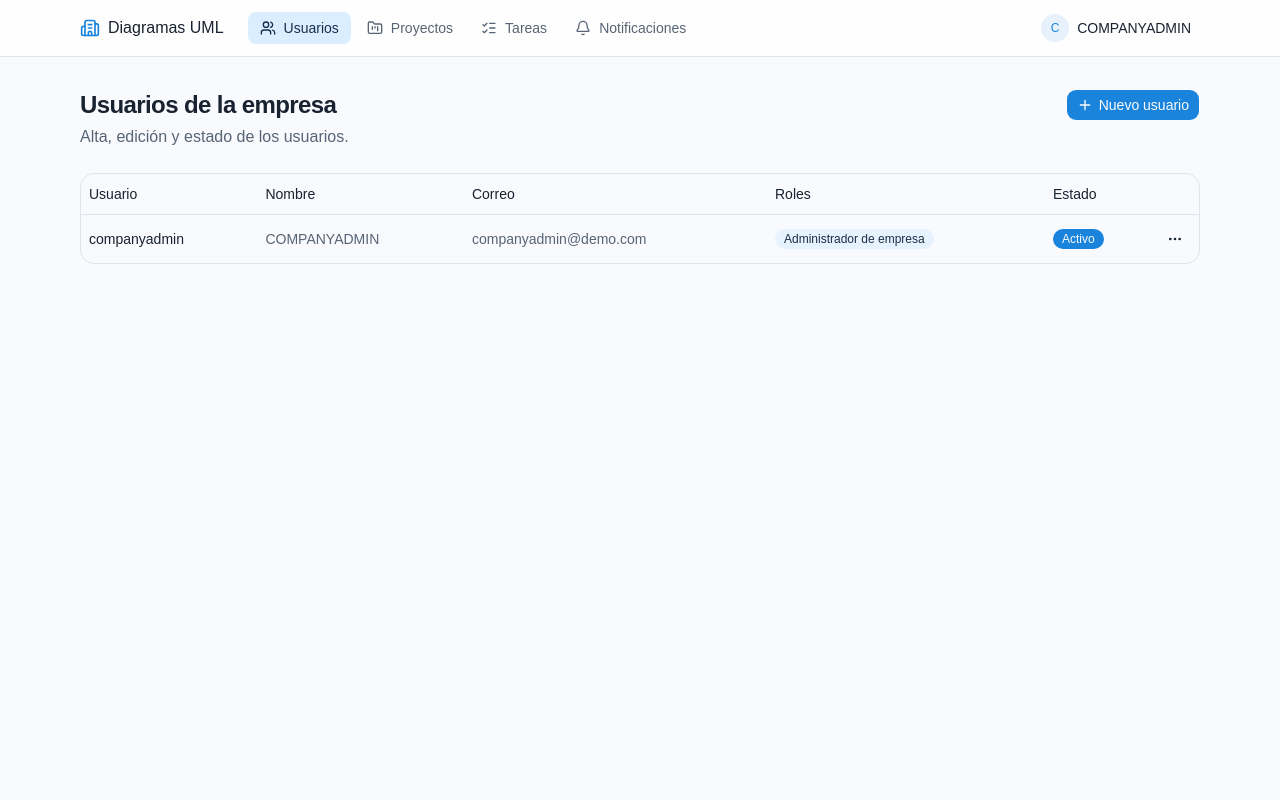
Test: CU-03 Gestionar usuarios de empresa › muestra DUPLICATE_USER sin cerrar el formulario
The width and height of the screenshot is (1280, 800).
Click the button "Nuevo usuario".
click(1133, 105)  # box [1066,89,1200,121]
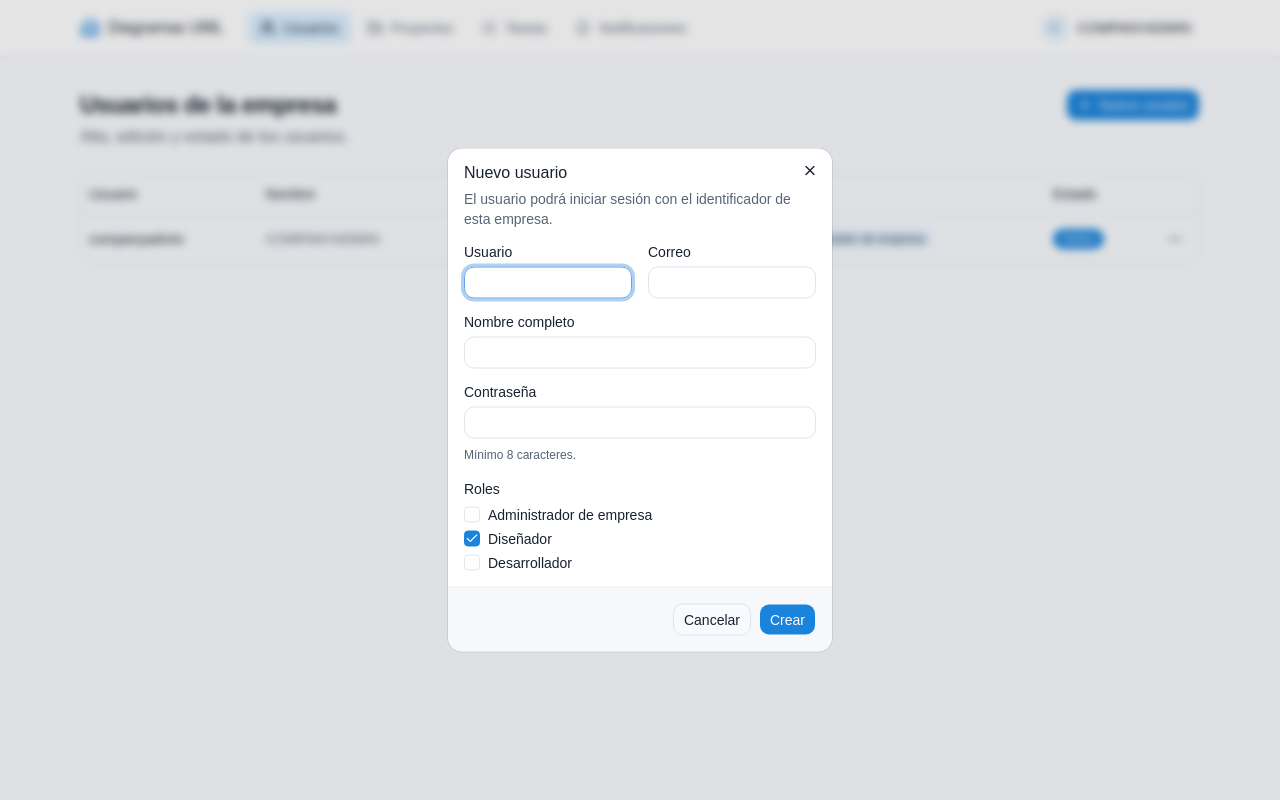
Type "designer" into the field labelled "Usuario".
click(548, 282); type("designer")  # box [464,266,632,298]
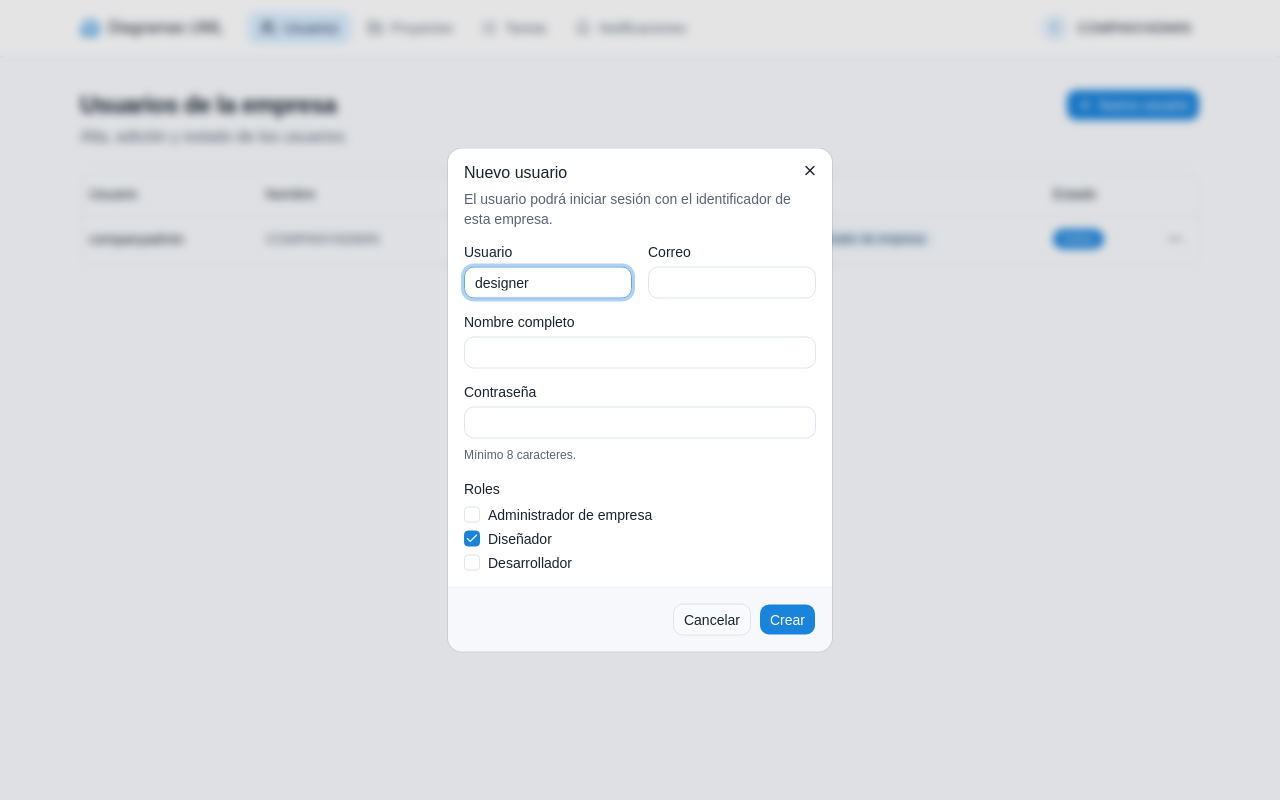
Type "designer@demo.com" into the field labelled "Correo".
click(732, 282); type("designer@demo.com")  # box [648,266,816,298]
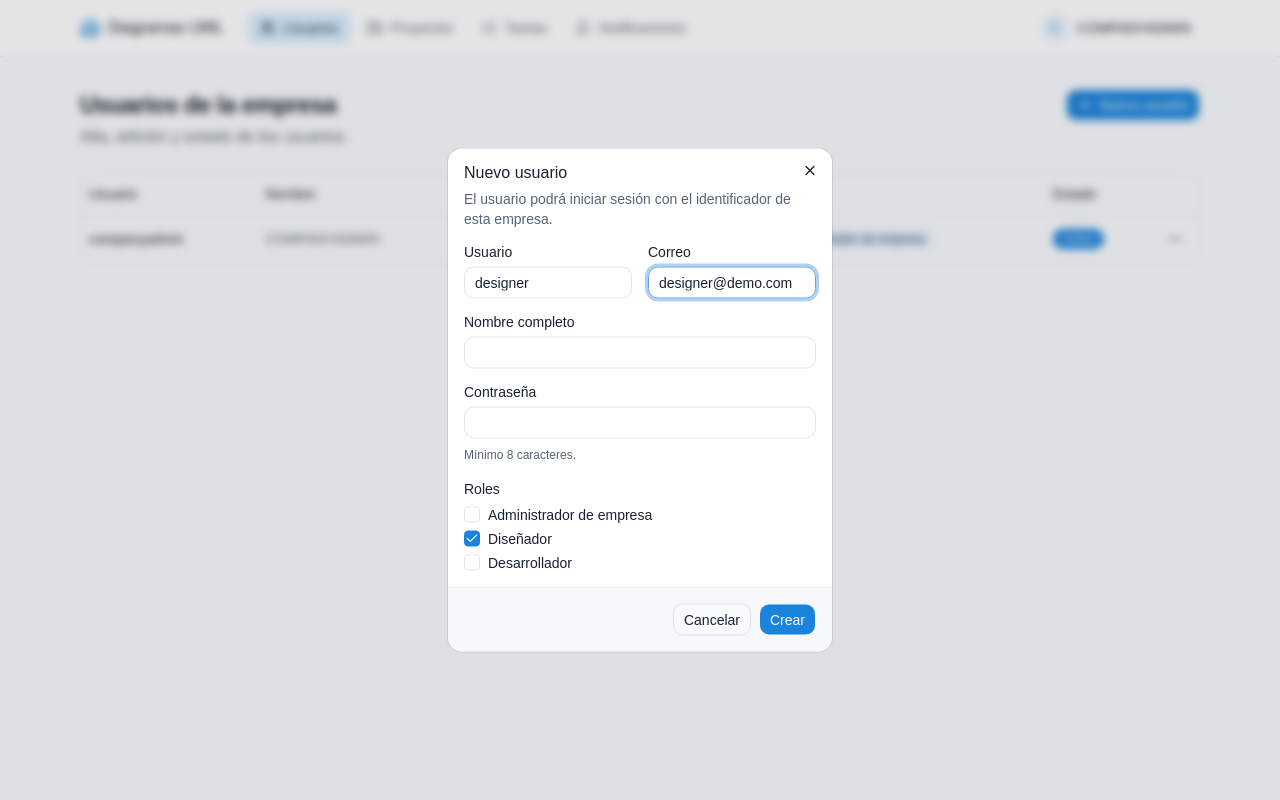
Type "clave-larga" into the password field labelled "Contraseña".
click(640, 422); type("clave-larga")  # box [464,406,816,438]
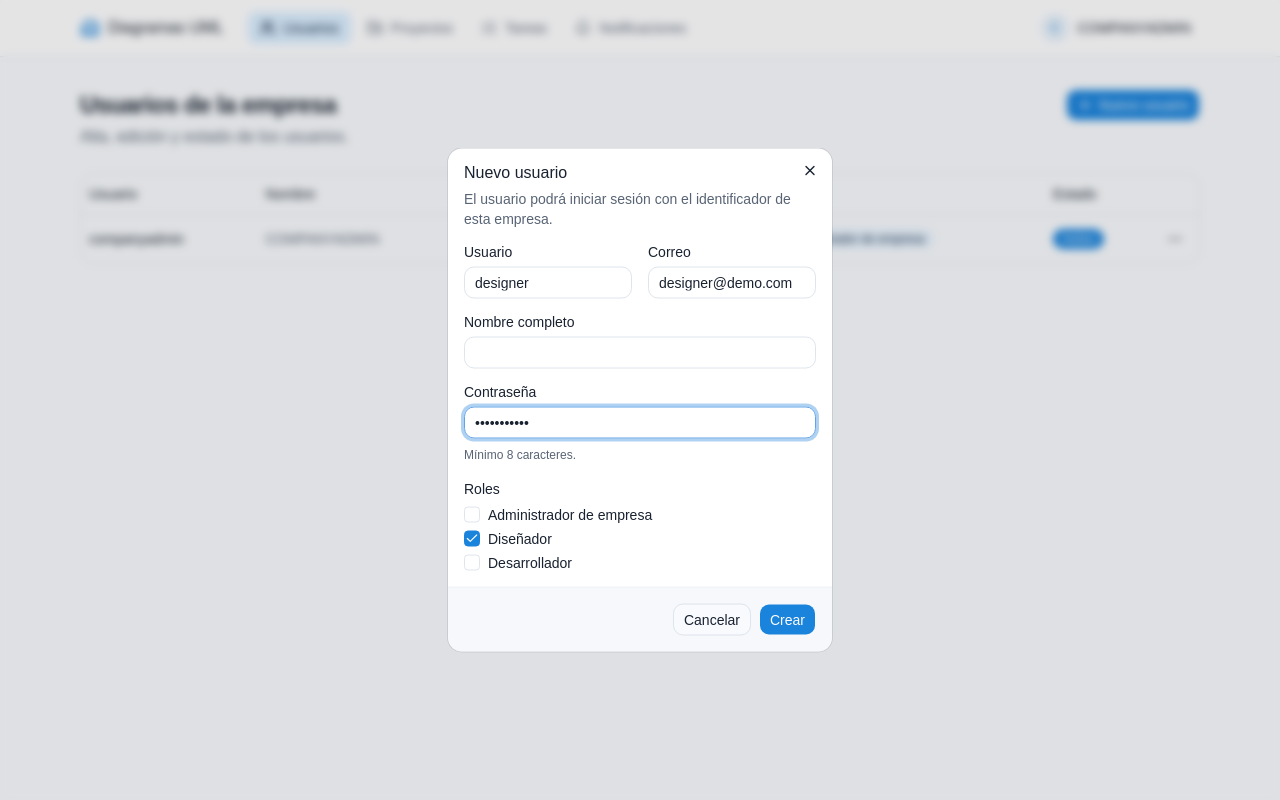
Click the button "Crear".
click(788, 620)  # box [759,604,816,636]
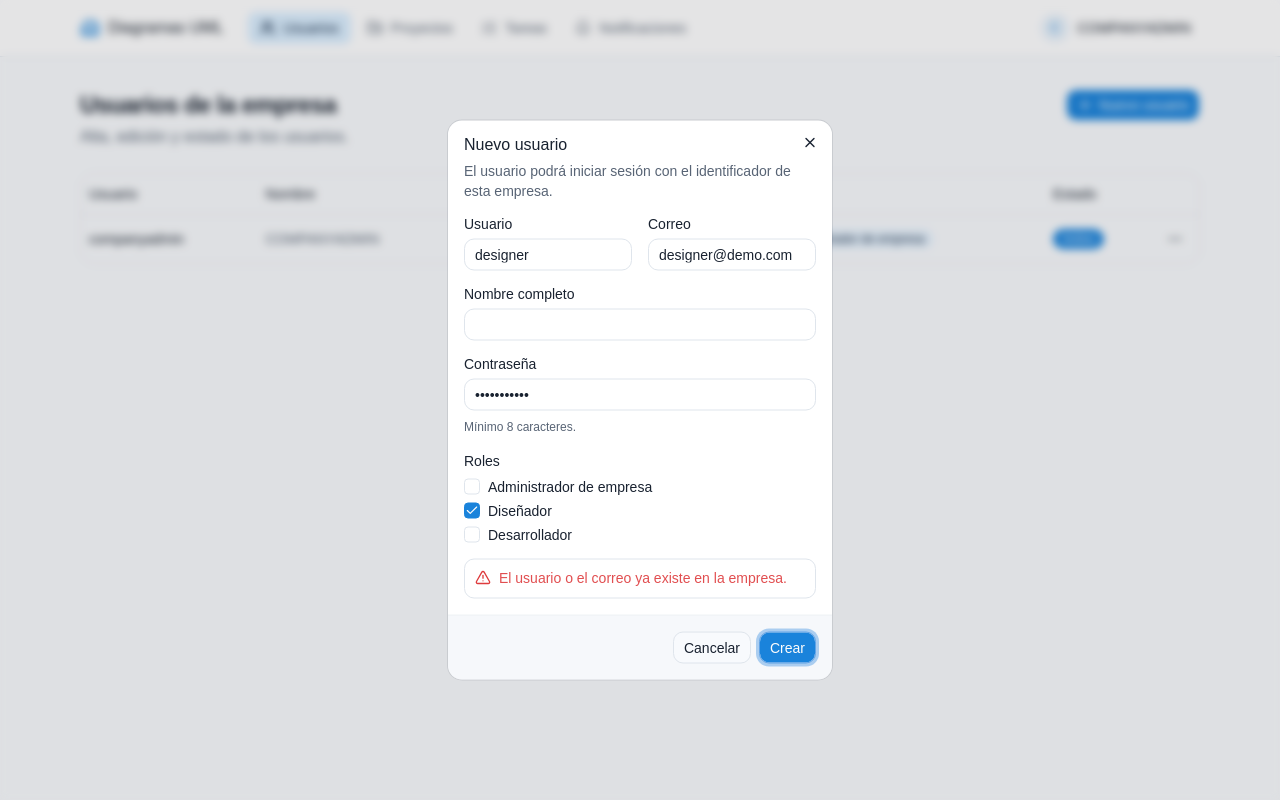
Now the dialog is shown, box [448,120,832,680]
Now the message reads "El usuario o el correo ya existe en la empresa.", box [499,570,787,586]
